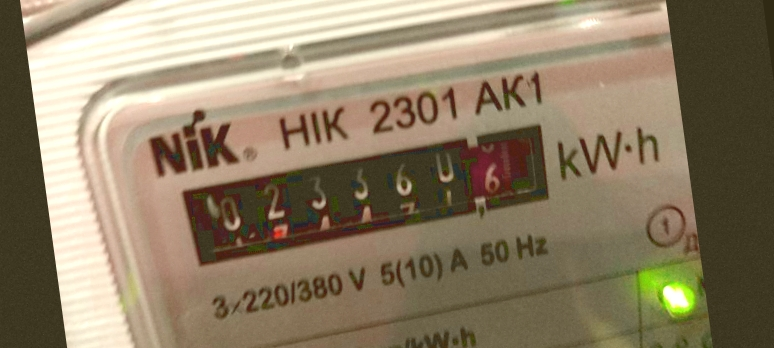0: (214, 189, 244, 234), (430, 145, 457, 185)
2: (256, 177, 287, 221)
3: (344, 162, 371, 203), (303, 170, 329, 212)
6: (386, 156, 417, 200), (479, 158, 504, 197)
screen: (155, 107, 568, 278)
